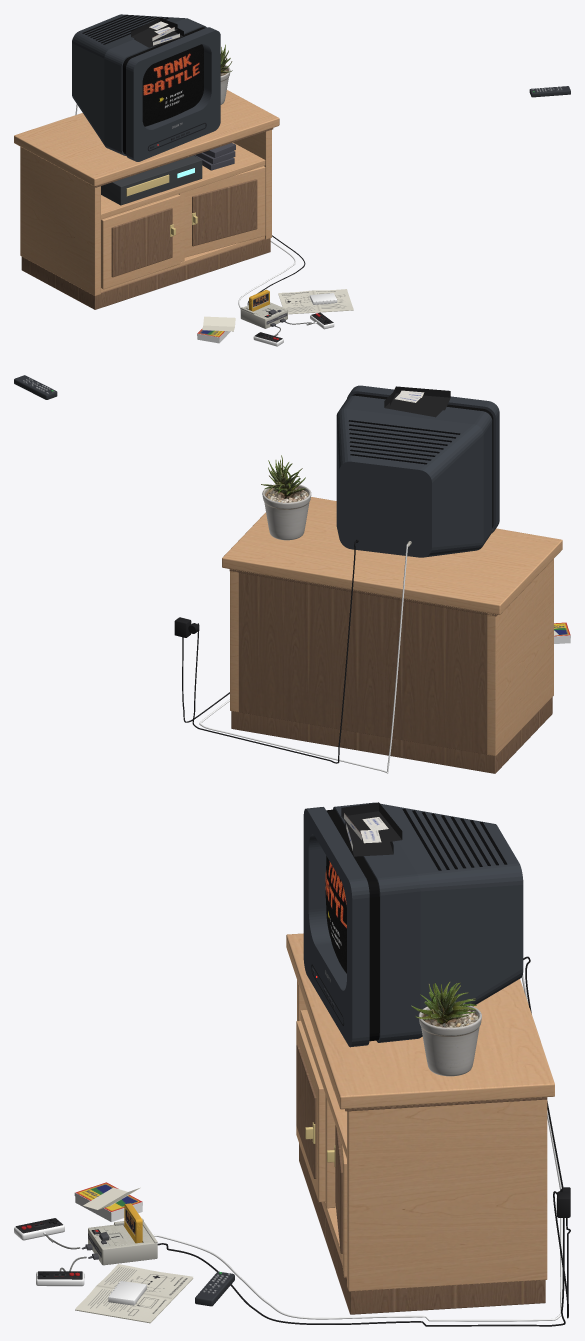
Rendered from room_tv.glb.
3 views of the same model, one above another, from view 1: azimuth 30°, elevation 25°; view 2: azimuth 150°, elevation 25°; view 3: azimuth 270°, elevation 25° (orthographic). The views are drawn at different scales.
Visible parts, largest first — view 1: F64_GoldStar_Cabinet, TVCab_Side_Left, TVCab_Top_Slab, TVCab_Plinth_Base, HeroTV_television_02, TVCab_Door_Filenka_Right, TVCab_Door_Filenka_Left, TVCab_Door_Panel_Left, TVCab_Door_Panel_Right, VCR_Deck_Chassis, TVCab_VCR_Shelf, F64_Dendy_Booklet (+5 smaller); view 2: TVCab_Back_Panel, F64_GoldStar_Cabinet, TVCab_Top_Slab, TVCab_Side_Left, TVCab_Plinth_Base, AloePlant_potted_plant_04_pot, TVCab_Side_Right, F30_VHS_rambo2, F64_Dendy_RF_Cable, F64_TV_MainsCord, AloePlant_potted_plant_04_plant, TVCab_Top_Trim (+2 smaller); view 3: F64_GoldStar_Cabinet, TVCab_Side_Right, TVCab_Top_Slab, TVCab_Plinth_Base, F64_Dendy_Booklet, AloePlant_potted_plant_04_pot, Room95_Console_Body, TVCab_Door_Panel_Left, F64_Dendy_RF_Cable, TVCab_Door_Filenka_Left, HeroTV_television_02, F30_VHS_rambo2 (+12 smaller).
Boxes of the visible parts, x1,y1,x2,y2 form: F64_GoldStar_Cabinet: (72, 14, 220, 161); TVCab_Side_Left: (20, 147, 100, 295); TVCab_Top_Slab: (14, 90, 279, 186); TVCab_Plinth_Base: (21, 238, 270, 309); HeroTV_television_02: (142, 44, 203, 126); TVCab_Door_Filenka_Right: (192, 179, 257, 246); TVCab_Door_Filenka_Left: (111, 208, 172, 277); TVCab_Door_Panel_Left: (101, 194, 180, 289); TVCab_Door_Panel_Right: (184, 166, 265, 257); VCR_Deck_Chassis: (101, 155, 202, 205); TVCab_VCR_Shelf: (101, 142, 265, 219); F64_Dendy_Booklet: (278, 289, 353, 314); TVCab_Back_Panel: (238, 573, 486, 754); F64_GoldStar_Cabinet: (336, 385, 499, 557); TVCab_Top_Slab: (222, 497, 562, 614); TVCab_Side_Left: (487, 559, 553, 755); TVCab_Plinth_Base: (231, 697, 552, 773); AloePlant_potted_plant_04_pot: (262, 484, 311, 540); TVCab_Side_Right: (230, 570, 238, 712); F30_VHS_rambo2: (390, 386, 450, 410); F64_Dendy_RF_Cable: (199, 542, 410, 773); F64_TV_MainsCord: (188, 539, 358, 763); AloePlant_potted_plant_04_plant: (261, 455, 305, 498); TVCab_Top_Trim: (229, 569, 497, 616); F64_GoldStar_Cabinet: (303, 802, 523, 1047); TVCab_Side_Right: (347, 1099, 547, 1291); TVCab_Top_Slab: (286, 933, 554, 1109); TVCab_Plinth_Base: (299, 1143, 545, 1314); F64_Dendy_Booklet: (75, 1264, 193, 1323); AloePlant_potted_plant_04_pot: (418, 1003, 481, 1076); Room95_Console_Body: (88, 1218, 157, 1265); TVCab_Door_Panel_Left: (296, 1021, 325, 1202); F64_Dendy_RF_Cable: (153, 974, 562, 1321); TVCab_Door_Filenka_Left: (296, 1044, 316, 1178); HeroTV_television_02: (325, 856, 346, 973); F30_VHS_rambo2: (341, 802, 402, 845).
Bounding box in the file's own units: 27.13 × 13.64 × 16.92.
Materials: 48 (17 with a texture image).
